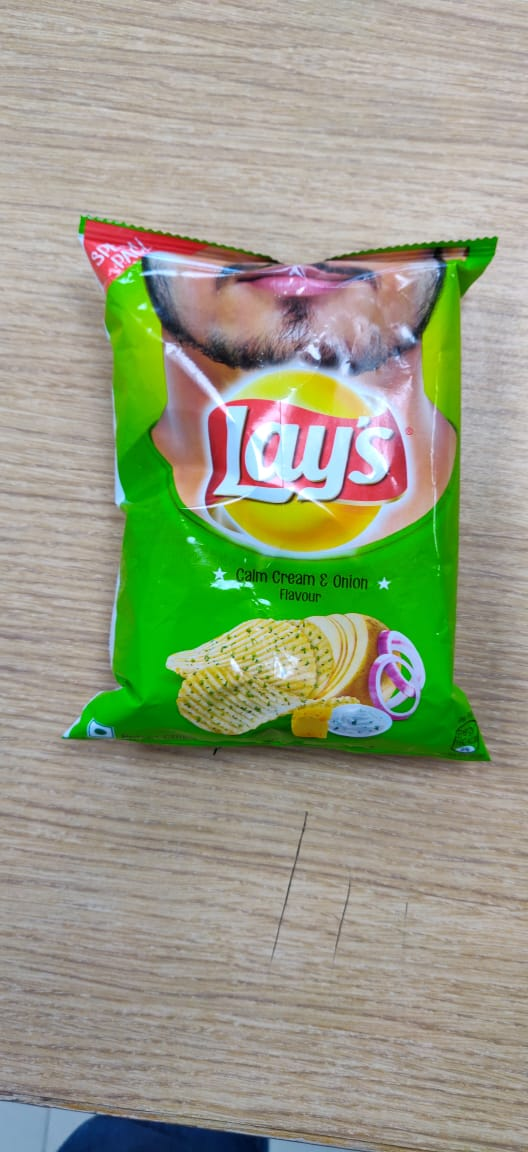lays chips: (61, 193, 508, 800)
